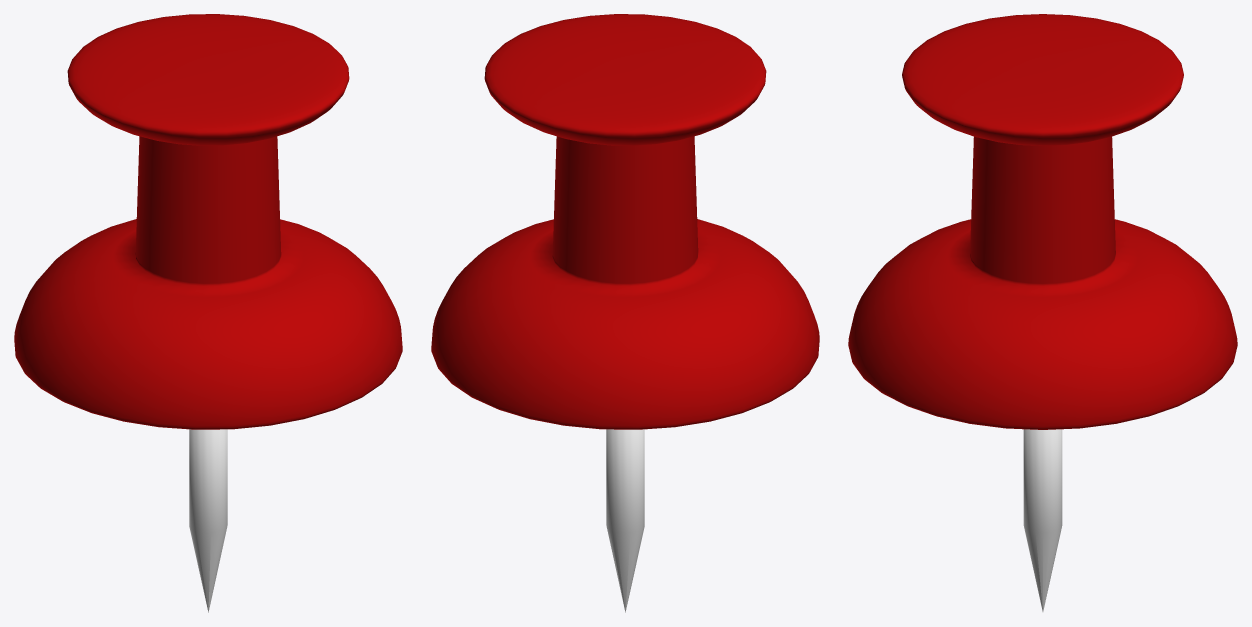
The model's file is pin.glb.
3 views of the same model, side by side, from view 1: azimuth 30°, elevation 25°; view 2: azimuth 150°, elevation 25°; view 3: azimuth 270°, elevation 25° (orthographic).
Visible parts, largest first — view 1: PinheadMesh, NeedleMesh; view 2: PinheadMesh, NeedleMesh; view 3: PinheadMesh, NeedleMesh.
Boxes of the visible parts, <box> form: PinheadMesh: <box>14,14,402,429</box>; NeedleMesh: <box>189,429,227,612</box>; PinheadMesh: <box>431,14,819,429</box>; NeedleMesh: <box>606,429,644,612</box>; PinheadMesh: <box>848,14,1237,429</box>; NeedleMesh: <box>1023,429,1062,611</box>.
Size of the model in its own units: 80 by 124 by 80.
